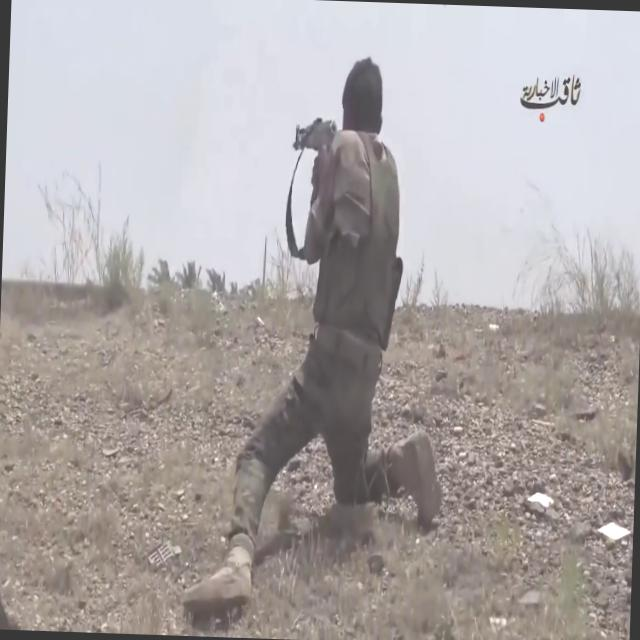long weapon: (280, 115, 344, 169)
